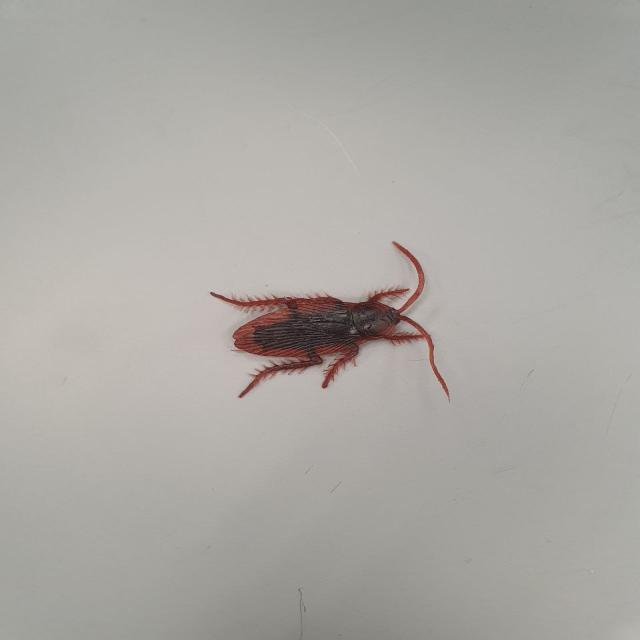Cockroach: (202, 247, 464, 399)
